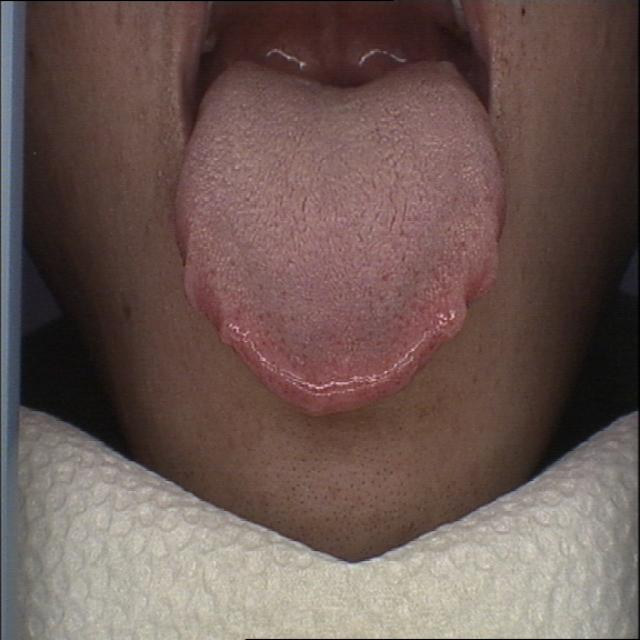tongue: (172, 56, 510, 421)
